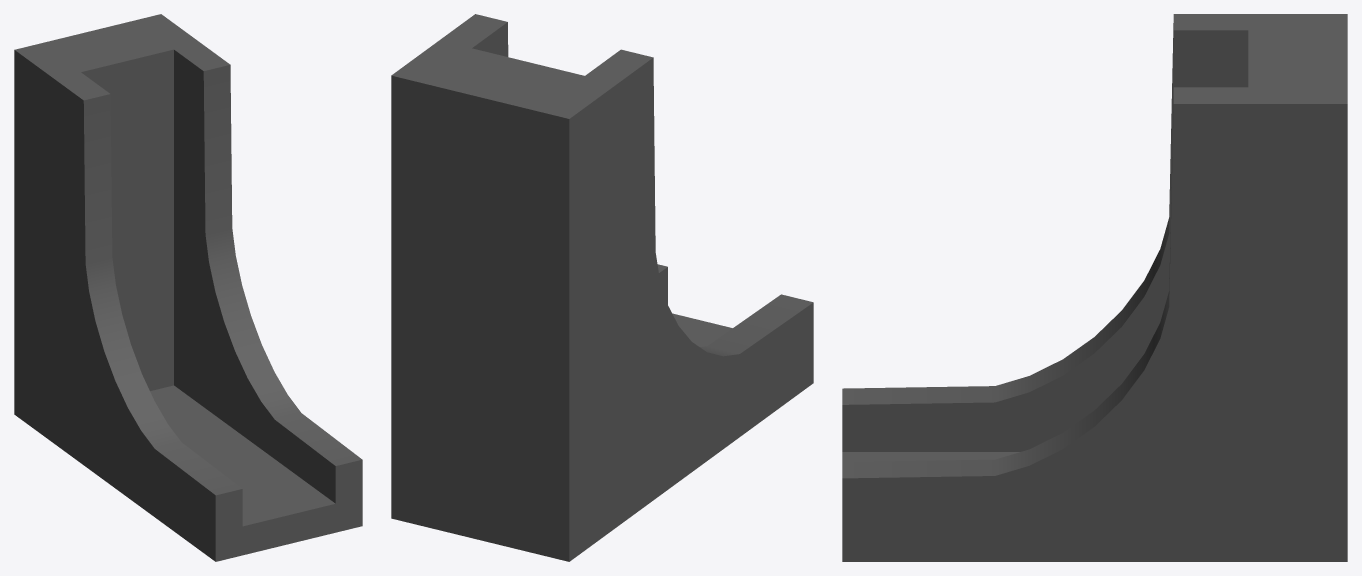
Rendered from File-Holder.fbx.
3 views of the same model, side by side, from view 1: azimuth 30°, elevation 25°; view 2: azimuth 150°, elevation 25°; view 3: azimuth 270°, elevation 25° (orthographic). The views are drawn at different scales.
Parts seen in each view (by area): view 1: File-Holder; view 2: File-Holder; view 3: File-Holder.
Boxes of the visible parts, x1,y1,x2,y2 form: File-Holder: [14, 14, 362, 561]; File-Holder: [391, 14, 813, 561]; File-Holder: [842, 14, 1347, 561].
Bounding box in the file's own units: 0.0612 × 0.1455 × 0.1455.
